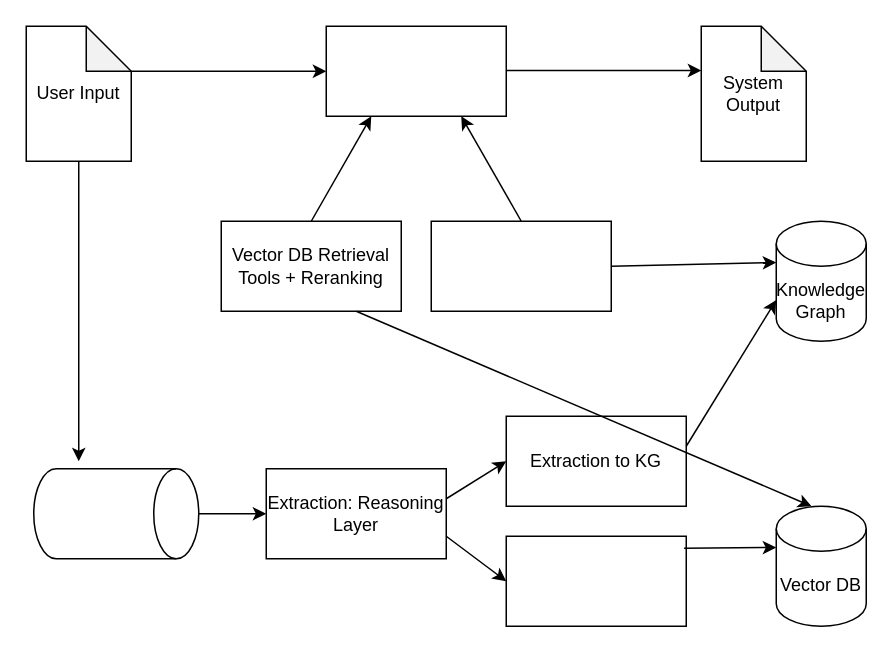
This 893x653 diagram has some shape labels left out. The shapes that lost their labels are listed below. From the top down, each one's box as (x1, y1, x2, y2) in pixels, then its label:
(325, 25, 506, 116): RAG AI Agent
(430, 220, 611, 311): KG Retrieval Tools
(32, 467, 199, 559): Extraction Pipeline
(505, 535, 686, 626): Extraction to Vector DB
